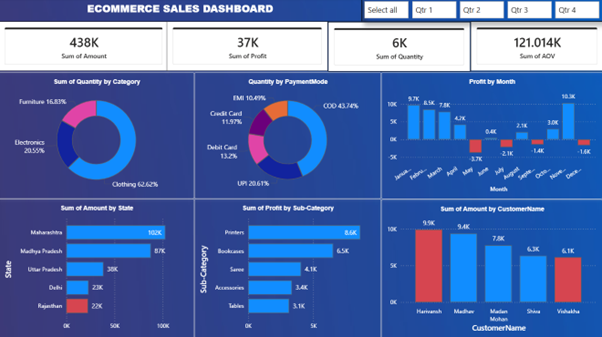

The dashboard page shown, as its layout file describes it:
{"tool":"powerbi","page":{"name":"Page 1","canvas":[1280,720],"ordinal":0},"visuals":[{"type":"columnChart","title":"Profit by Month","fields":{"Y":["select","Sum(Details.Profit)"],"Category":["Orders.Order Date.Variation.Date Hierarchy.Month"]},"box":[810,155.7,468.6,268.6],"z":0},{"type":"textbox","box":[0,0,768.6,48.6],"z":1000},{"type":"barChart","fields":{"Category":["order.Sub-Category"],"Y":["Sum(order.Profit)"]},"box":[414,424,396,296],"z":2000},{"type":"donutChart","fields":{"Category":["order.Category"],"Y":["Sum(order.Quantity)"]},"box":[0,156,414,268],"z":3000},{"type":"donutChart","title":"Quantity by PaymentMode","fields":{"Category":["order.PaymentMode"],"Y":["Sum(order.Quantity)"]},"box":[414,156,396,268],"z":4000},{"type":"cardVisual","fields":{"Data":["Sum(order.Amount)"]},"box":[0,48.8,360,105],"z":5000},{"type":"cardVisual","fields":{"Data":["Sum(order.Profit)"]},"box":[356.2,48.8,341.2,105],"z":6000},{"type":"cardVisual","fields":{"Data":["Sum(order.Quantity)"]},"box":[697.5,50,301.2,105],"z":7000},{"type":"cardVisual","fields":{"Data":["Sum(Details.AOV)"]},"box":[998.6,48.6,281.4,105.7],"z":8000},{"type":"barChart","fields":{"Category":["Orders.State"],"Y":["Sum(Details.Amount)"]},"box":[0,424,414,296],"z":9000},{"type":"columnChart","fields":{"Category":["Orders.CustomerName"],"Y":["Sum(Details.Amount)"]},"box":[810,424.3,468.6,295.7],"z":10000},{"type":"advancedSlicerVisual","fields":{"Values":["Orders.Order Date.Variation.Date Hierarchy.Quarter"]},"box":[768.2,0,511.8,48.2],"z":11000}]}

Visuals, with their boxes in screenshot pixels (x1, y1, x2, y2), scaled from the page's 1280x720 canvas onto the 602x337 screenshot:
"Profit by Month" columnChart: 381, 73, 601, 199
textbox: 0, 0, 361, 23
barChart - order.Sub-Category x Sum(order.Profit): 195, 198, 381, 336
donutChart - order.Category x Sum(order.Quantity): 0, 73, 195, 198
"Quantity by PaymentMode" donutChart: 195, 73, 381, 198
cardVisual - Sum(order.Amount): 0, 23, 169, 72
cardVisual - Sum(order.Profit): 168, 23, 328, 72
cardVisual - Sum(order.Quantity): 328, 23, 470, 73
cardVisual - Sum(Details.AOV): 470, 23, 601, 72
barChart - Orders.State x Sum(Details.Amount): 0, 198, 195, 336
columnChart - Orders.CustomerName x Sum(Details.Amount): 381, 199, 601, 336
advancedSlicerVisual - Orders.Order Date.Variation.Date Hierarchy.Quarter: 361, 0, 601, 23
